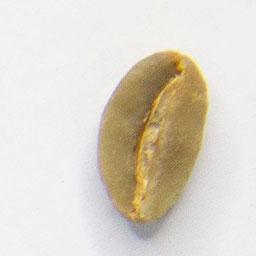longberry: (92, 45, 213, 229)
